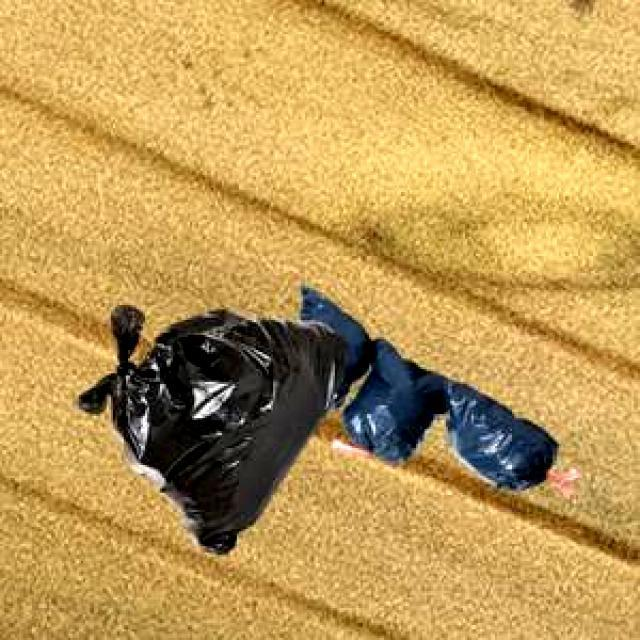Bolsa-de-nilon: (74, 288, 559, 558)
